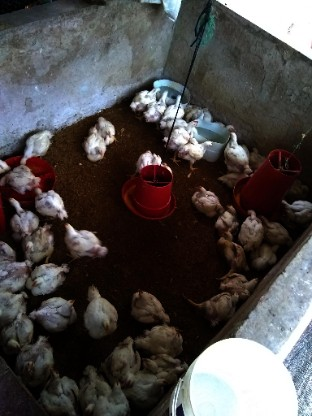Pollos: (57, 221, 117, 264), (14, 338, 55, 388), (137, 318, 188, 357), (39, 367, 79, 415), (84, 283, 117, 339), (75, 360, 107, 416), (128, 145, 175, 183), (195, 290, 240, 328), (130, 369, 171, 410), (140, 347, 194, 378), (103, 332, 138, 379), (12, 129, 59, 164), (27, 259, 67, 298), (31, 297, 78, 330), (0, 314, 40, 352), (218, 267, 258, 303), (95, 379, 133, 416), (276, 192, 312, 231), (7, 191, 38, 236), (258, 208, 292, 248), (217, 226, 245, 274), (130, 290, 169, 324), (20, 223, 53, 261), (1, 167, 41, 198), (238, 204, 263, 253), (166, 119, 200, 155), (30, 188, 68, 220), (74, 127, 106, 164), (0, 262, 37, 294), (181, 137, 215, 170), (250, 241, 285, 273), (189, 182, 221, 215), (131, 80, 163, 112), (226, 130, 249, 173), (216, 166, 252, 192), (146, 87, 170, 126), (92, 113, 124, 142), (215, 203, 239, 236), (286, 170, 310, 202), (0, 292, 23, 323), (165, 94, 187, 125), (249, 144, 270, 171), (0, 241, 17, 262), (221, 118, 235, 132)
